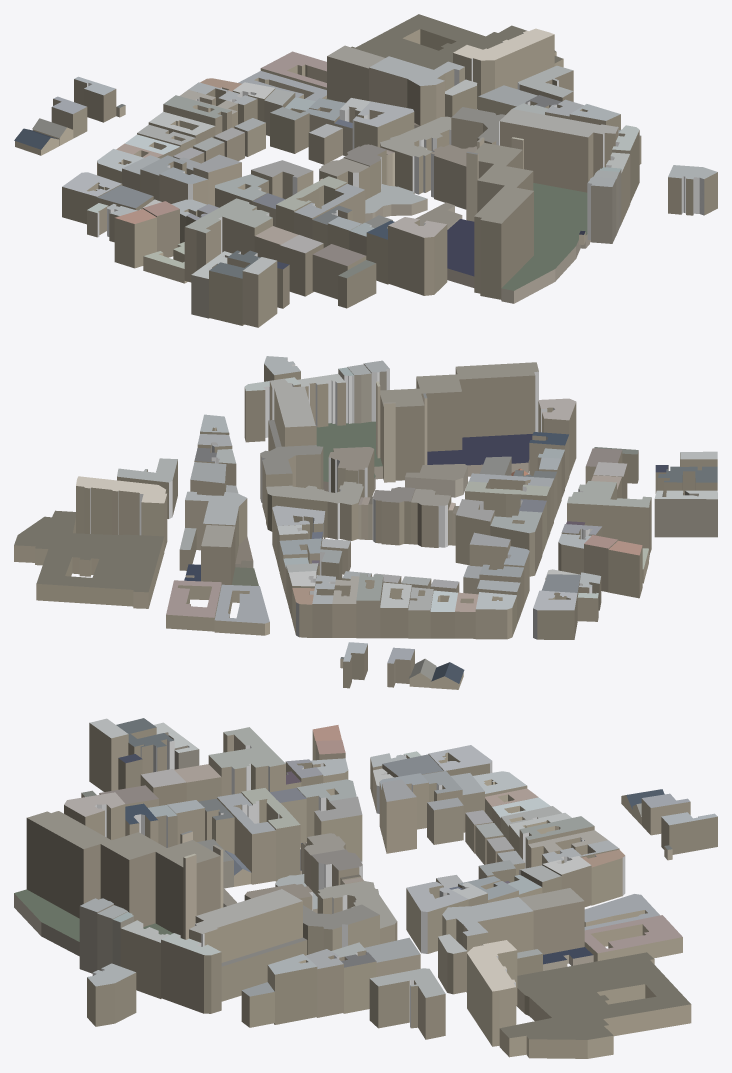
3 renders of one model, top to bottom at view 1: azimuth 30°, elevation 25°; view 2: azimuth 150°, elevation 25°; view 3: azimuth 270°, elevation 25°, orthographic. The views are drawn at different scales.
Parts seen in each view (by area): view 1: tuile; view 2: tuile; view 3: tuile.
Part boxes in pixels (left/top/right/bottom): tuile: left=14, top=14, right=717, bottom=327; tuile: left=14, top=356, right=717, bottom=689; tuile: left=14, top=718, right=717, bottom=1058.
Size of the model in its own units: 288 by 47.05 by 297.
